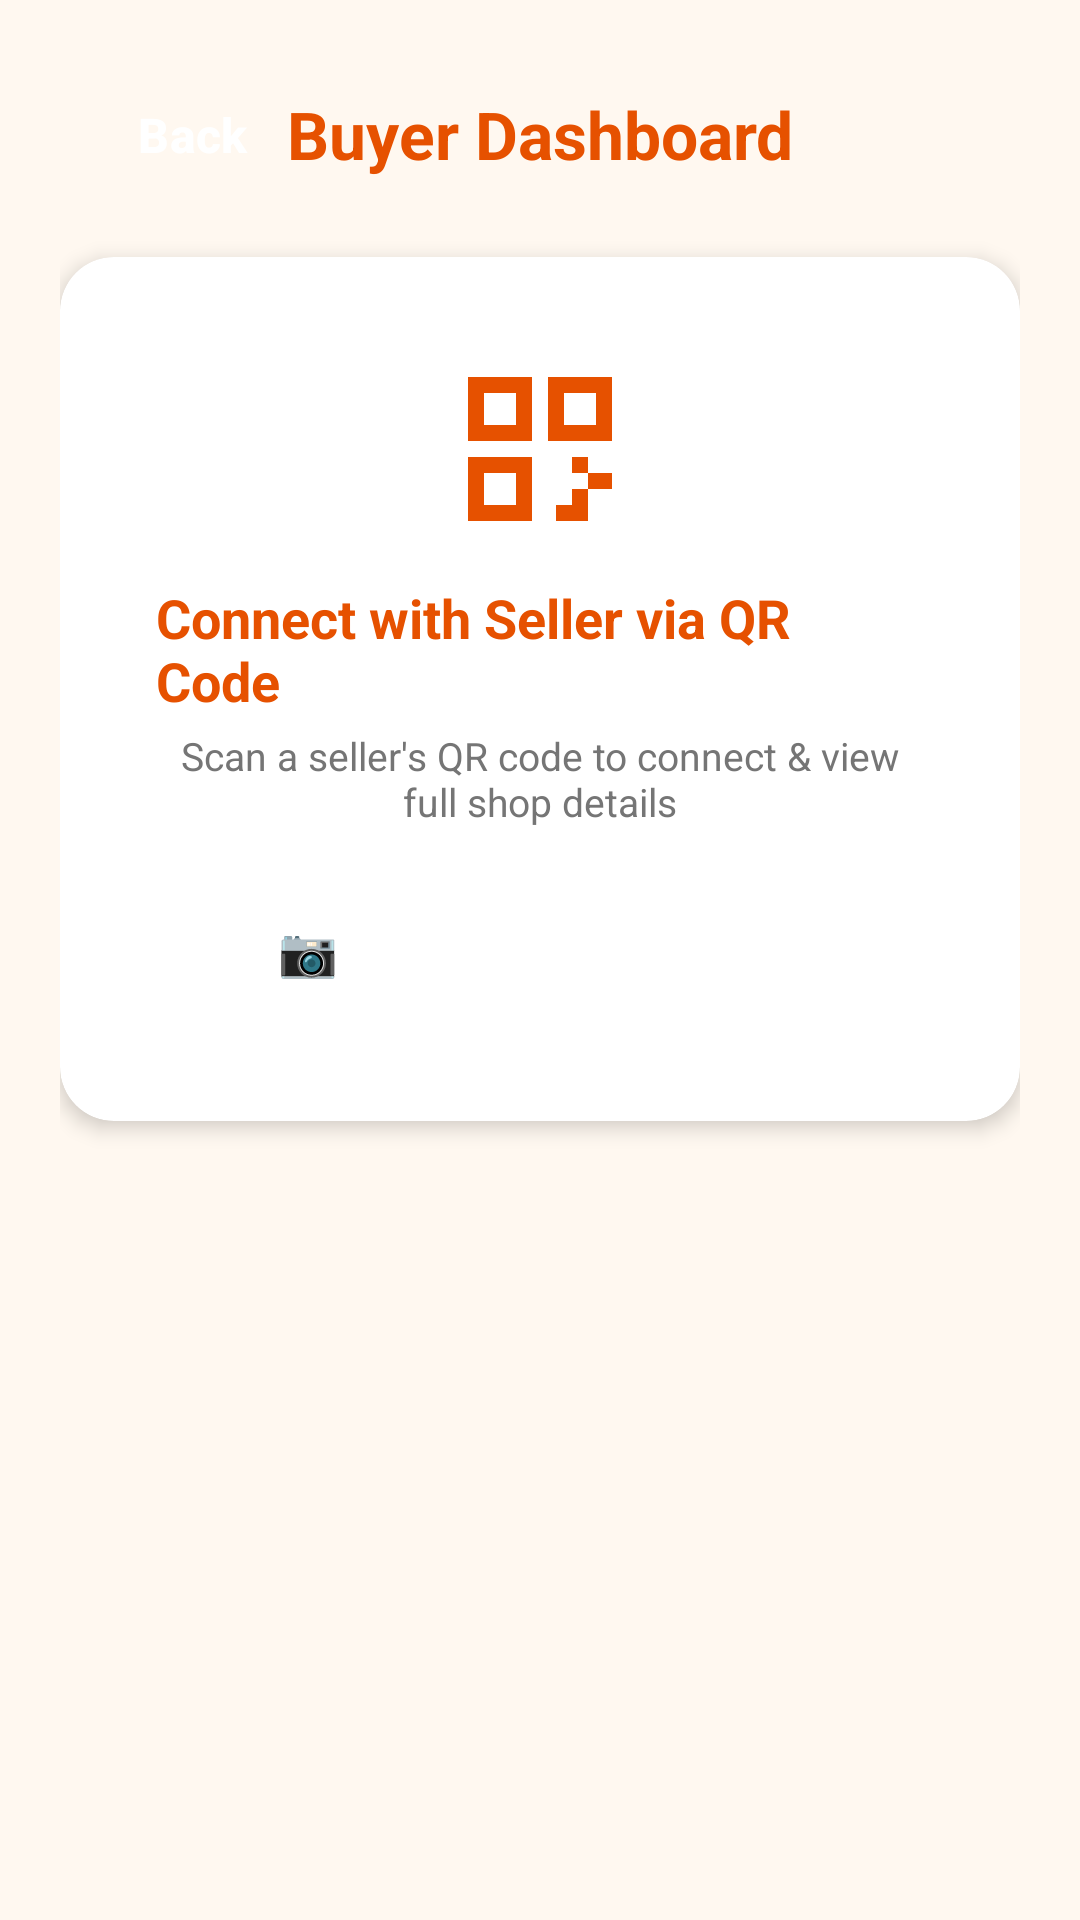

Named icons in this screenshot (1080 × 1920) and their centers, (x,y):
Scan QR Icon: (540,449)
